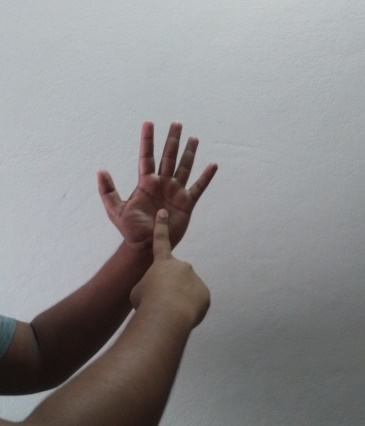oo: (98, 122, 218, 325)
